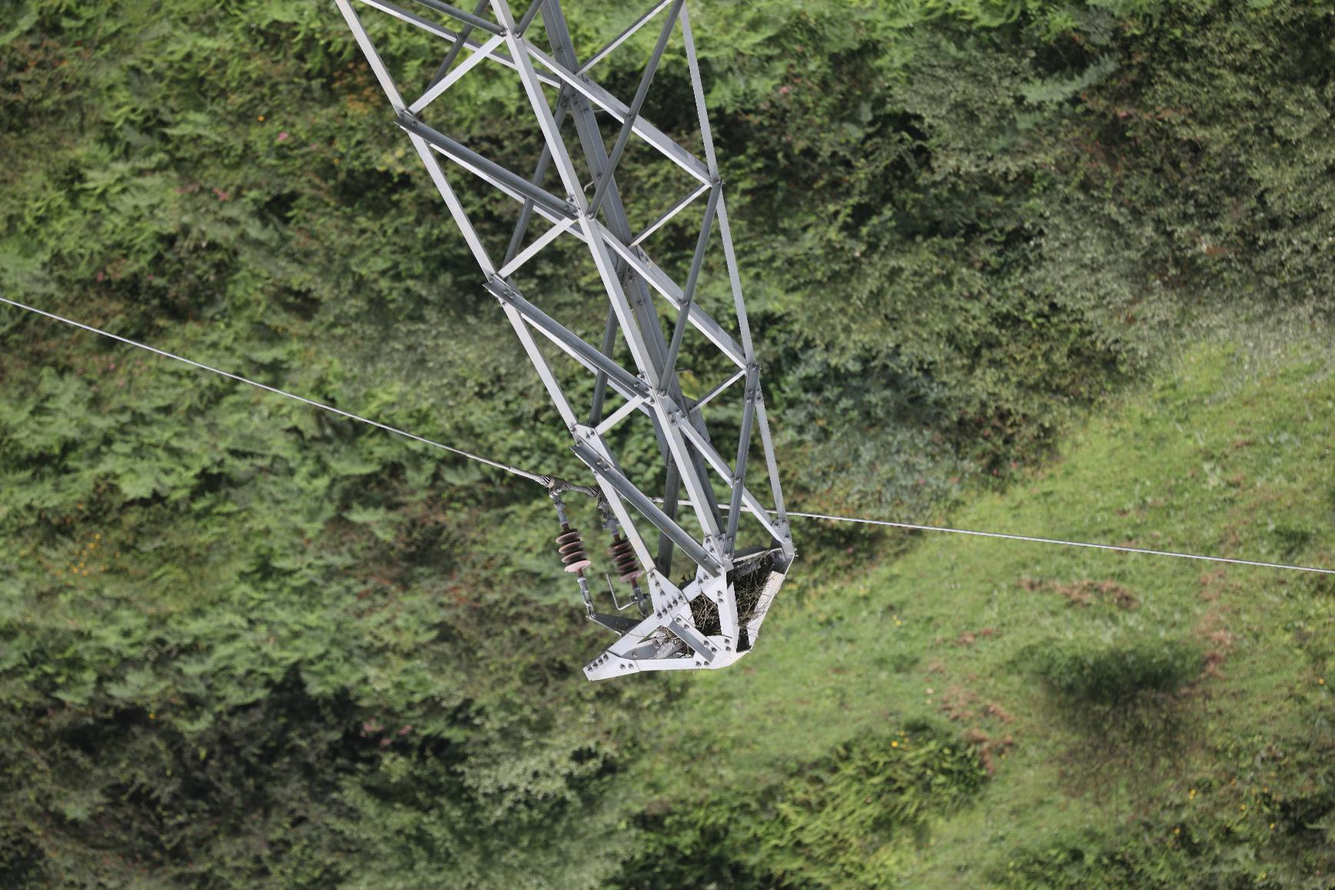nest: (690, 564, 772, 635)
